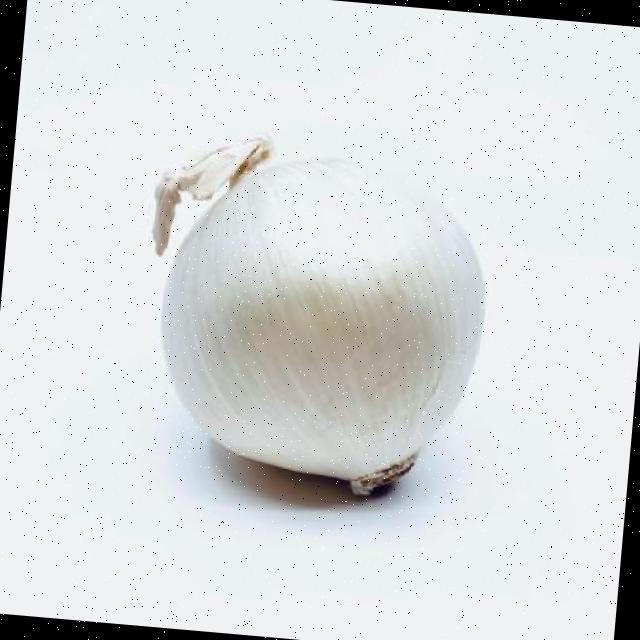Onion: (152, 138, 486, 498)
